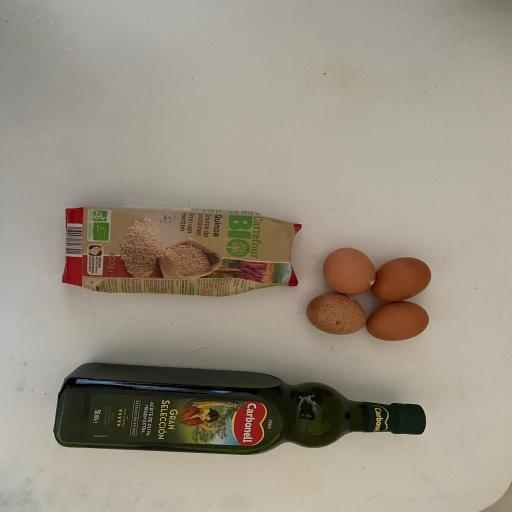egg: (369, 254, 433, 303), (321, 246, 379, 297), (362, 300, 432, 342), (306, 293, 368, 337)
olive_oil: (49, 359, 430, 458)
quinoa: (60, 204, 302, 298)
